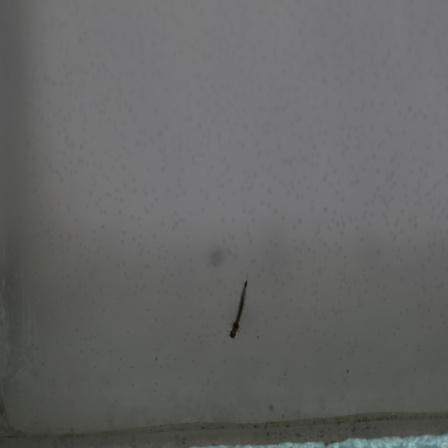Jentik-Nyamuk: (226, 278, 253, 339)
